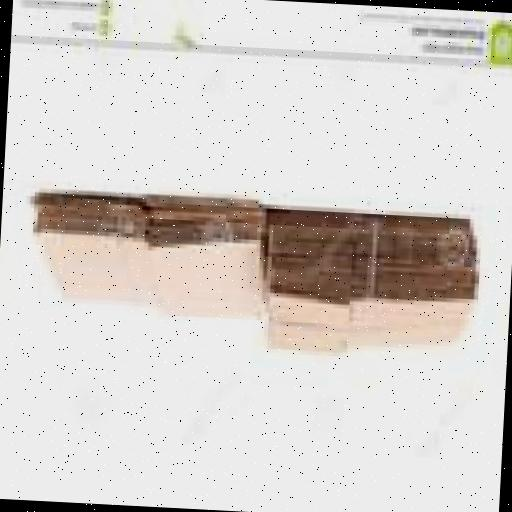cardboard: (263, 208, 482, 364), (33, 197, 270, 324)
